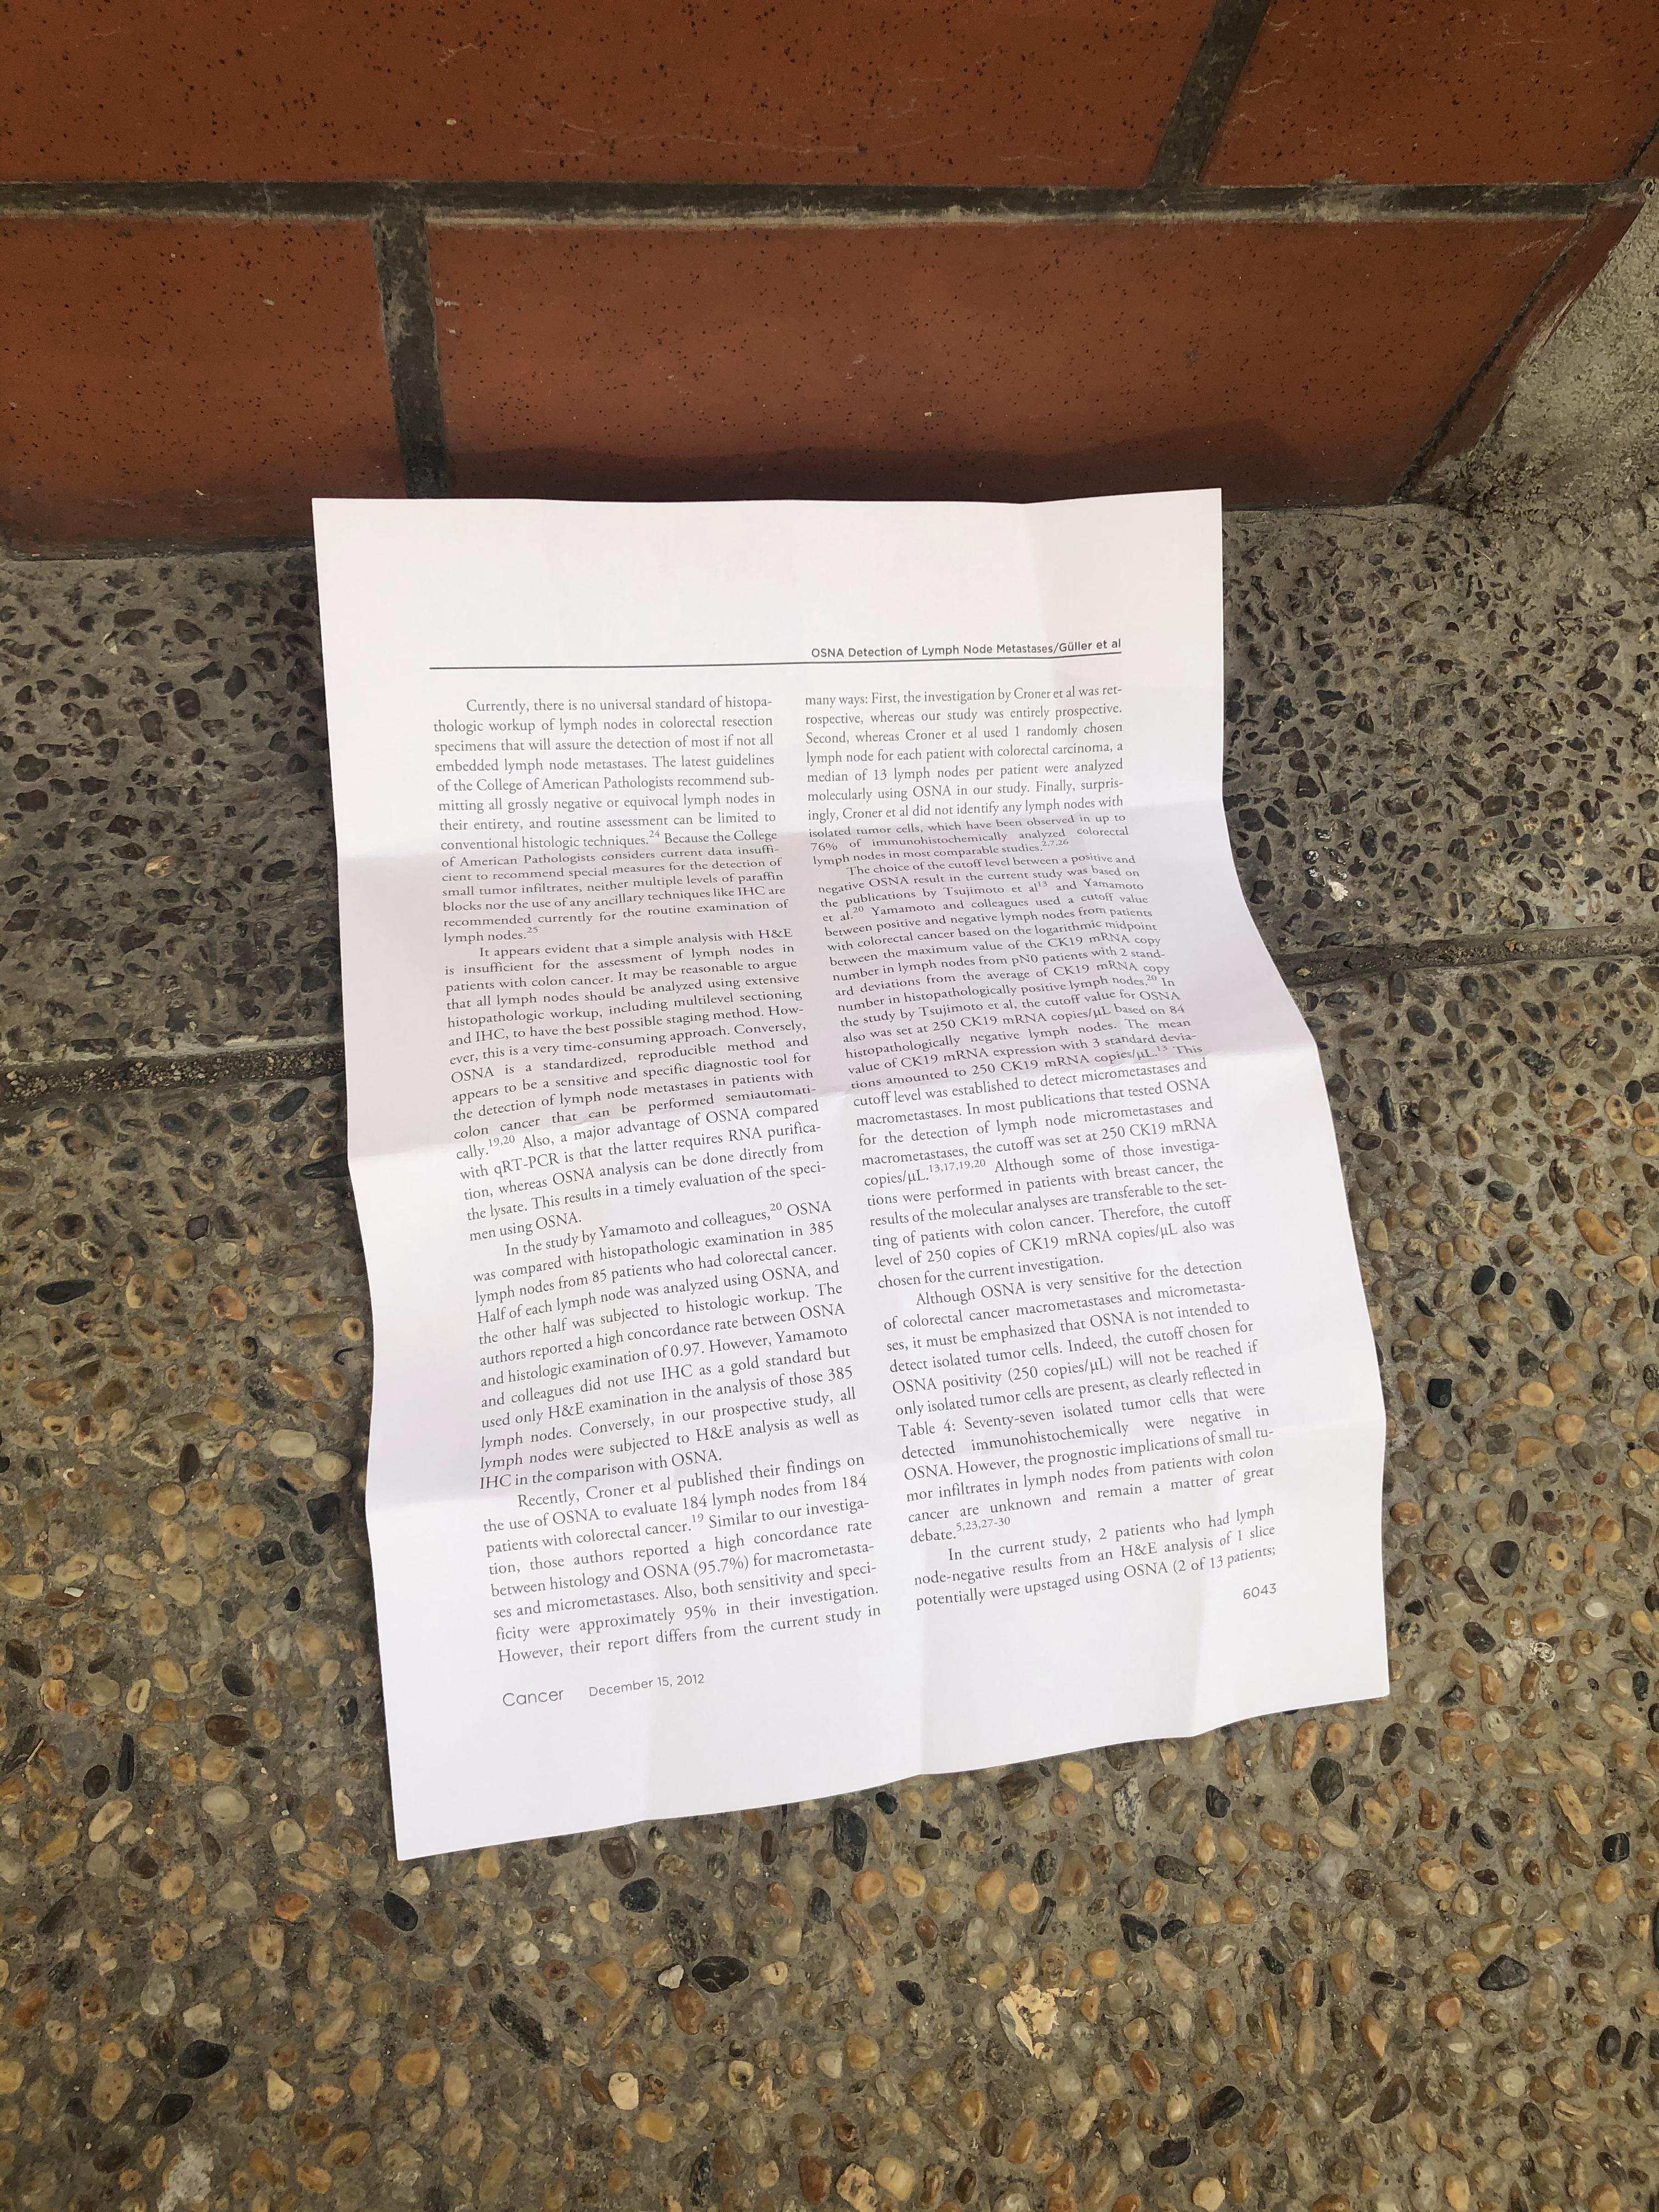paper: (200, 340, 1511, 1972)
